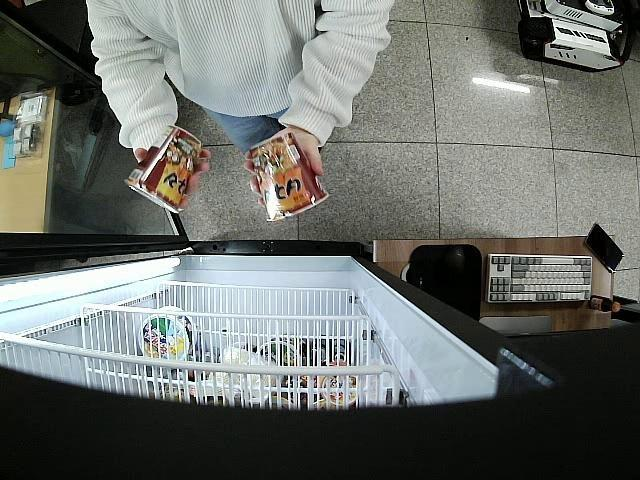06_nuguri_S: (252, 130, 330, 224), (124, 124, 203, 215)
